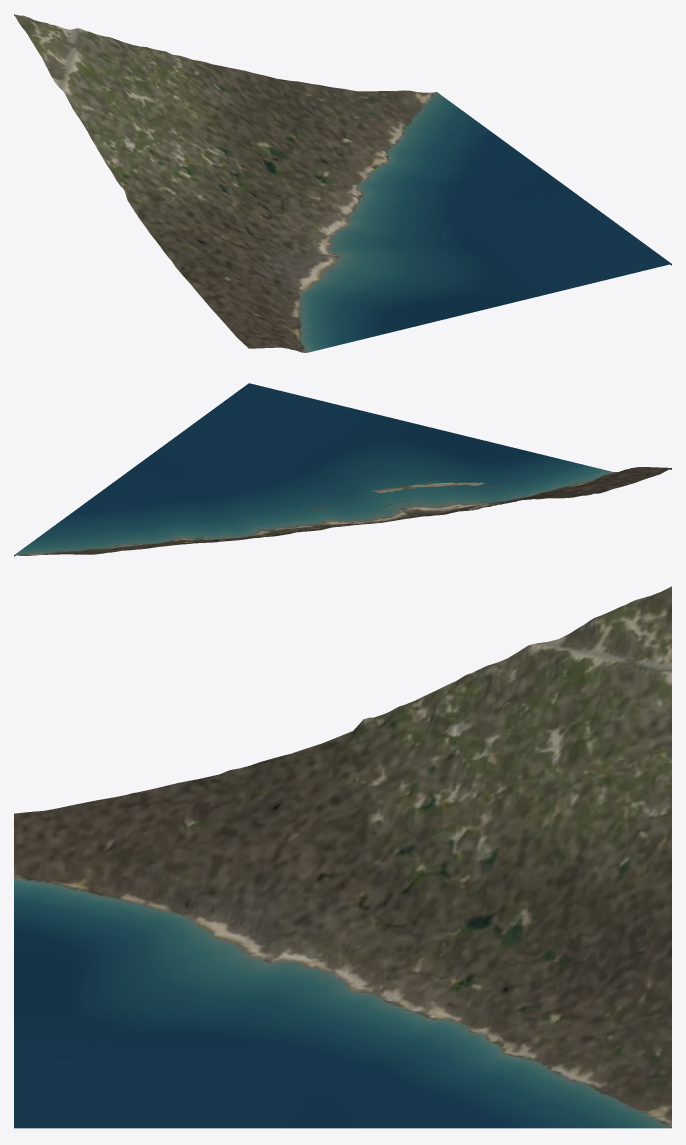
The picture shows the model from 3 angles, top to bottom: view 1: azimuth 30°, elevation 25°; view 2: azimuth 150°, elevation 25°; view 3: azimuth 270°, elevation 25°; orthographic projection. The views are drawn at different scales.
Bounding box in the file's own units: 250 × 103 × 241.
1 material, 1 textured.
